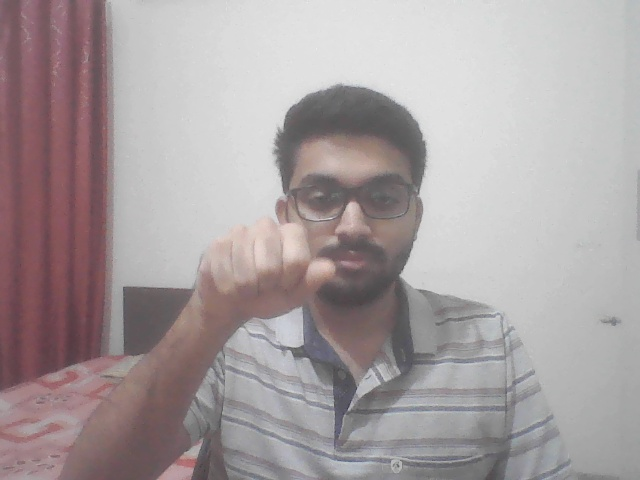yes: (146, 213, 367, 334)
